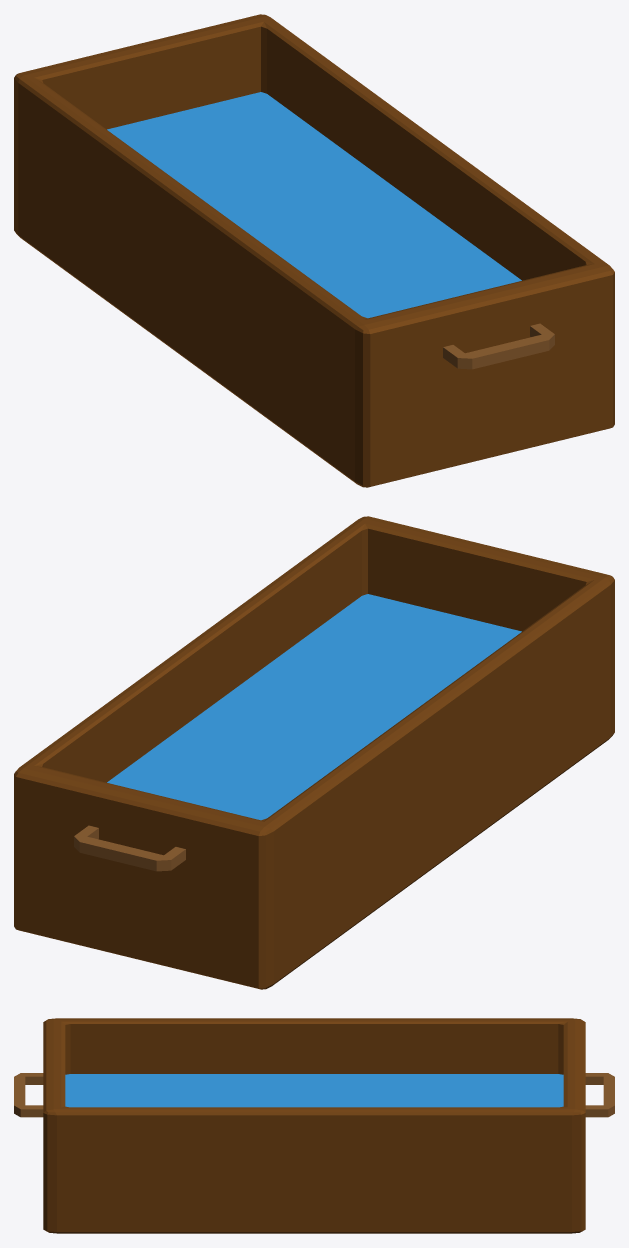
Rendered from trough.fbx.
3 views of the same model, one above another, from view 1: azimuth 30°, elevation 25°; view 2: azimuth 150°, elevation 25°; view 3: azimuth 270°, elevation 25° (orthographic). The views are drawn at different scales.
Parts seen in each view (by area): view 1: Cube, Plane, Cube.001; view 2: Cube, Plane, Cube.002; view 3: Cube, Plane, Cube.001, Cube.002.
Boxes of the visible parts, <box> form: Cube: <box>14,14,614,487</box>; Plane: <box>107,92,521,318</box>; Cube.001: <box>443,323,554,369</box>; Cube: <box>14,516,614,989</box>; Plane: <box>107,594,521,820</box>; Cube.002: <box>74,825,185,871</box>; Cube: <box>43,1018,585,1233</box>; Plane: <box>65,1074,563,1107</box>; Cube.001: <box>14,1073,43,1117</box>; Cube.002: <box>585,1073,614,1117</box>.
Size of the model in its own units: 100 by 60 by 266.
